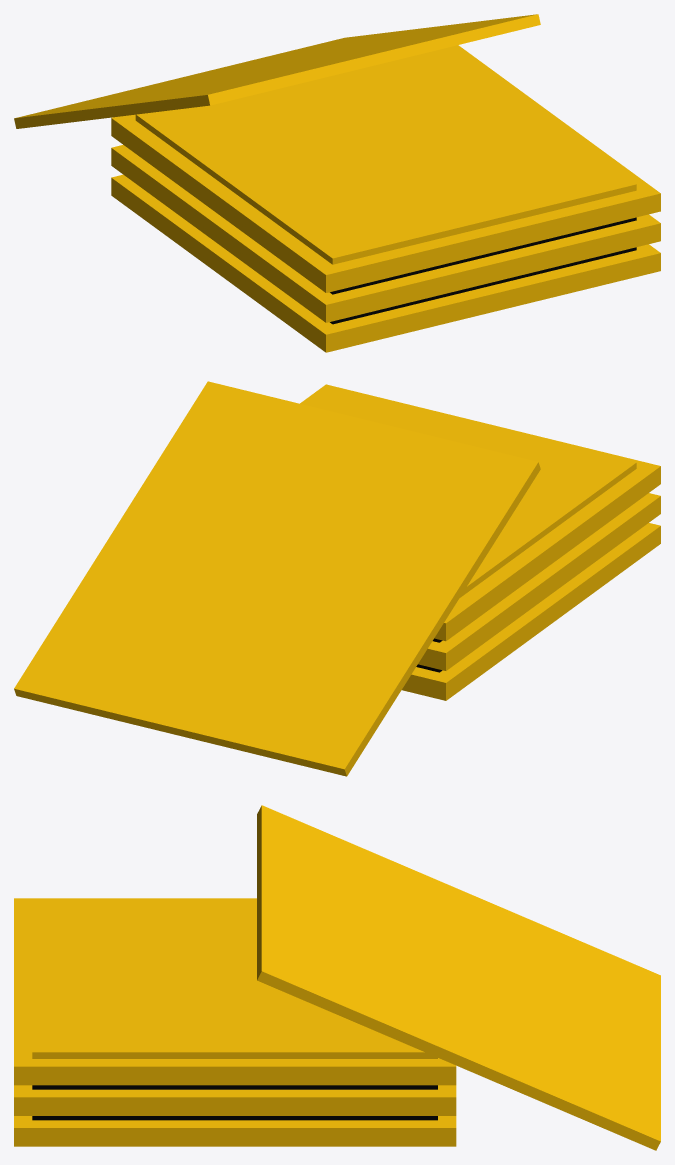
The model's file is PLASTICO.fbx.
3 renders of one model, top to bottom at view 1: azimuth 30°, elevation 25°; view 2: azimuth 150°, elevation 25°; view 3: azimuth 270°, elevation 25°, orthographic. The views are drawn at different scales.
Visible parts, largest first — view 1: Plane; view 2: Plane; view 3: Plane.
Part boxes in pixels (x1,y1,x2,y2): Plane: (14, 14, 660, 352); Plane: (14, 381, 660, 776); Plane: (14, 805, 660, 1150).
Size of the model in its own units: 0.3994 by 0.2002 by 0.6491.
